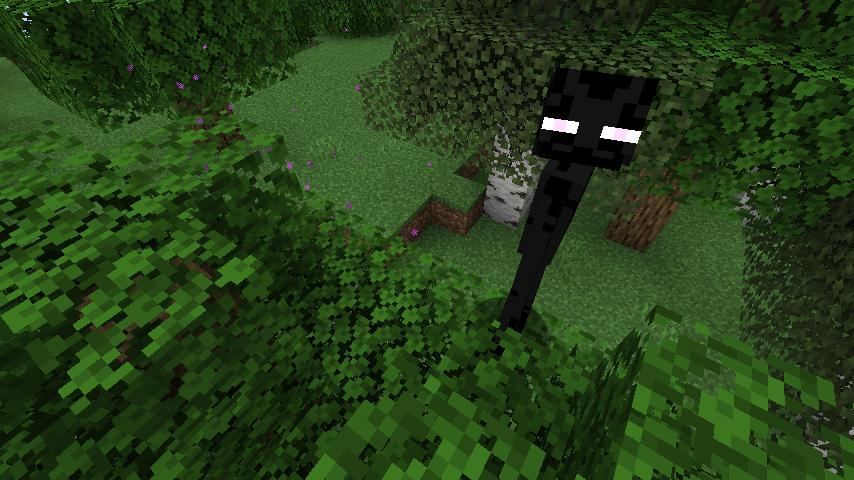enderman: (494, 64, 661, 350)
